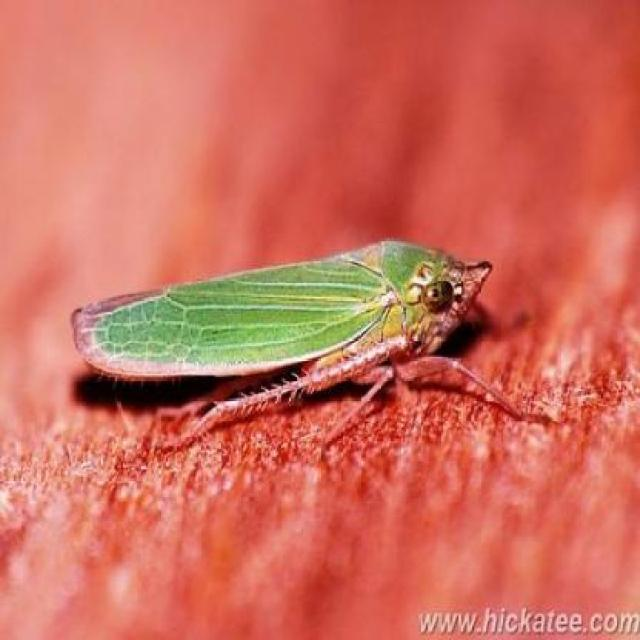green-leafhopper: (72, 239, 514, 455)
